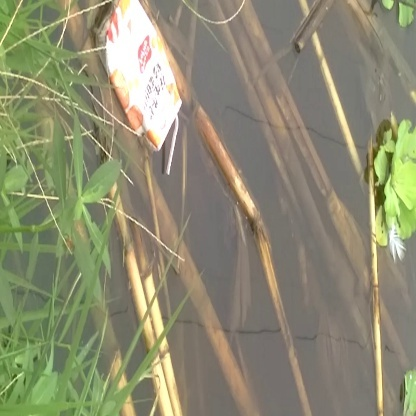milk-box: (94, 1, 199, 171)
